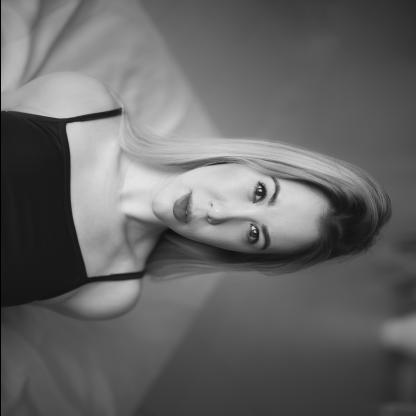Eye: (242, 223, 266, 247), (247, 180, 268, 206)
Mouth: (168, 188, 196, 225)
Nose: (204, 198, 254, 225)
